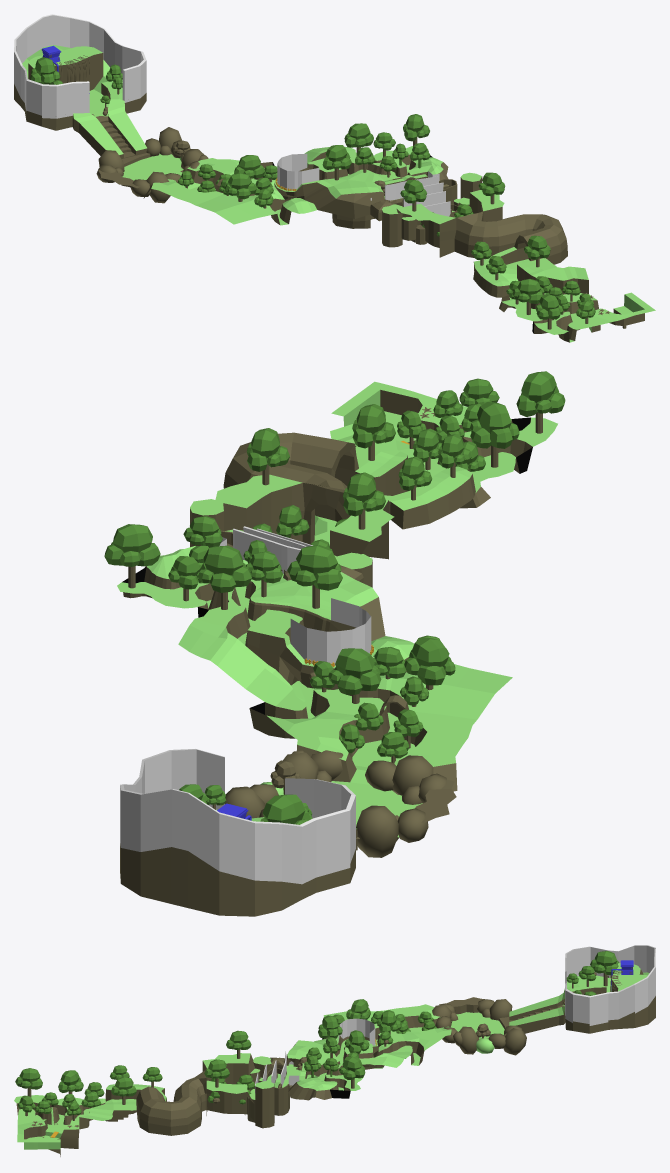
File: arboleda_newv2.fbx
The picture shows the model from 3 angles, top to bottom: view 1: azimuth 30°, elevation 25°; view 2: azimuth 150°, elevation 25°; view 3: azimuth 270°, elevation 25°; orthographic projection. The views are drawn at different scales.
Parts seen in each view (by area): view 1: Cube.003, Cube.006; view 2: Cube.003, Cube.006; view 3: Cube.003, Cube.006.
Boxes of the visible parts, x1=… form: Cube.003: x1=14, y1=45, x2=655, y2=342; Cube.006: x1=14, y1=14, x2=450, y2=216; Cube.003: x1=104, y1=371, x2=565, y2=916; Cube.006: x1=120, y1=526, x2=371, y2=884; Cube.003: x1=14, y1=951, x2=655, y2=1156; Cube.006: x1=255, y1=945, x2=655, y2=1092.
Bounding box in the file's own units: 28752 × 10300 × 58323.
